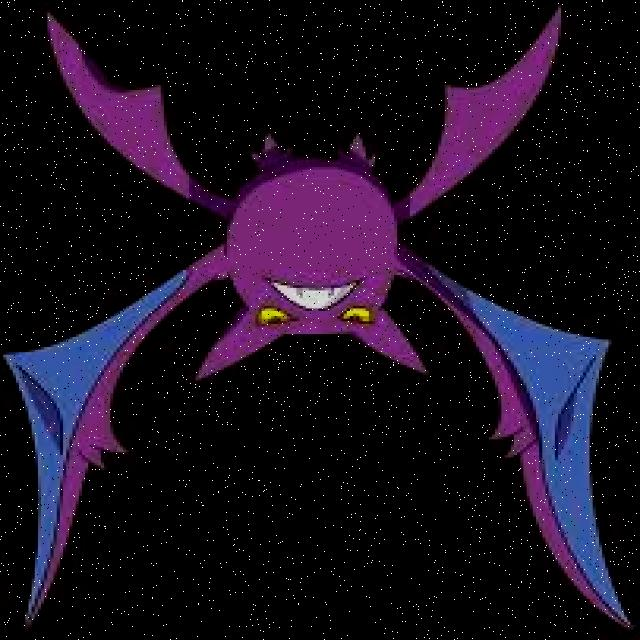crobat: (0, 5, 640, 638)
